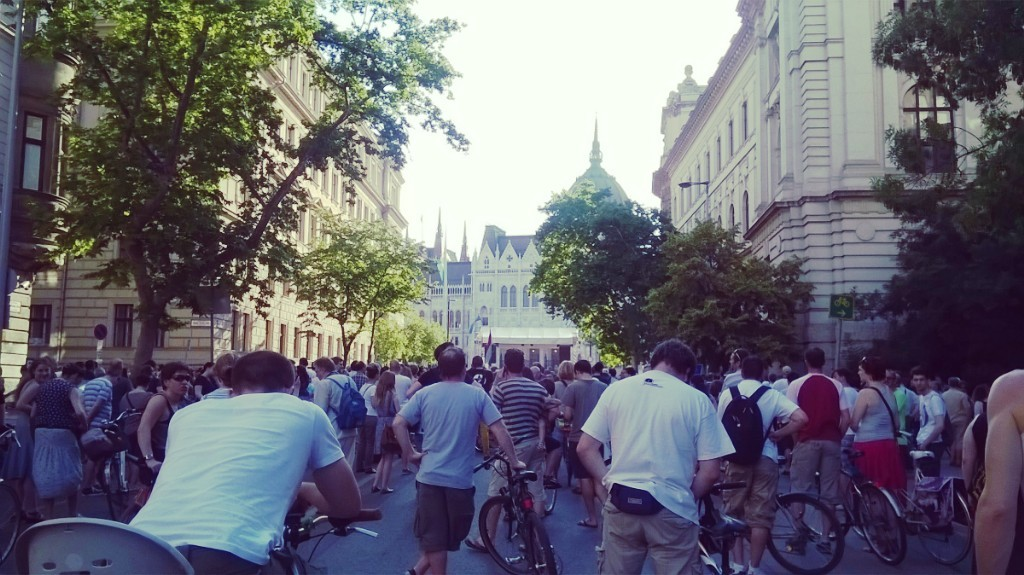Bicycle: (696, 483, 848, 574), (887, 430, 976, 572), (817, 447, 908, 568), (476, 446, 558, 574), (85, 408, 161, 520), (248, 513, 385, 574), (0, 428, 23, 557)
